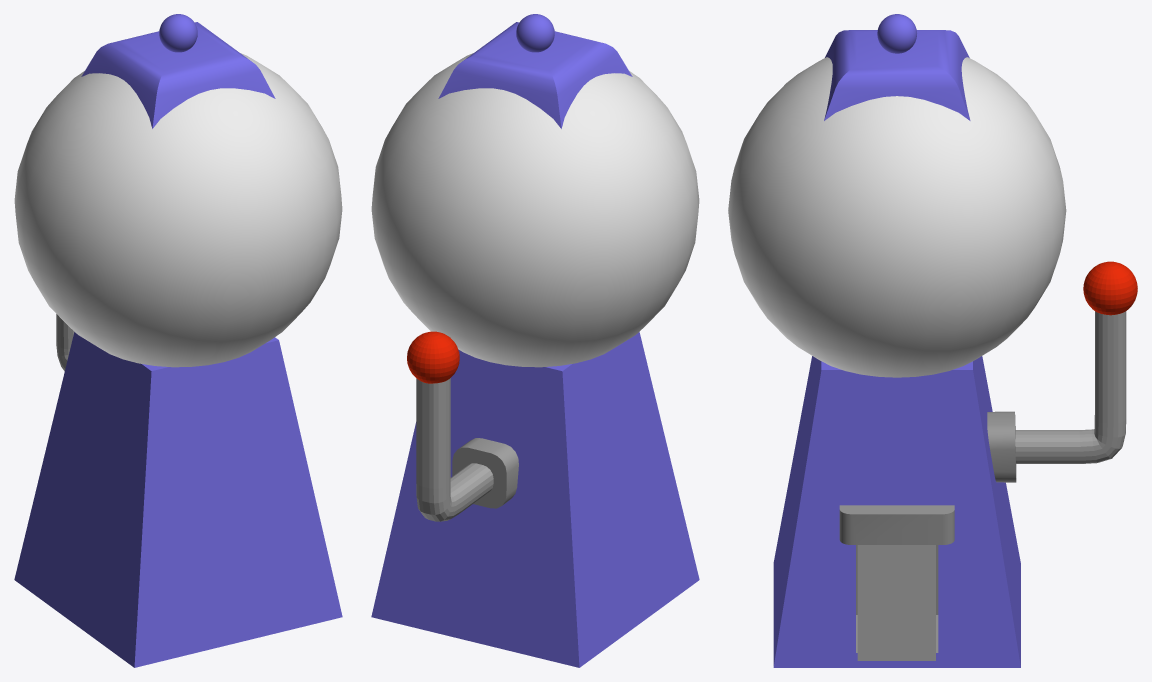
File: maquina gacha.fbx
3 renders of one model, left to right at view 1: azimuth 30°, elevation 25°; view 2: azimuth 150°, elevation 25°; view 3: azimuth 270°, elevation 25°, orthographic. The views are drawn at different scales.
Visible parts, largest first — view 1: Cube.002, Cube.003; view 2: Cube.002, Cube.003; view 3: Cube.002, Cube.003, Cube.001.
Boxes of the visible parts, bbox=[...] form: Cube.002: bbox=[14, 14, 342, 667]; Cube.003: bbox=[56, 314, 74, 371]; Cube.002: bbox=[371, 14, 699, 667]; Cube.003: bbox=[407, 331, 493, 521]; Cube.002: bbox=[728, 14, 1066, 667]; Cube.003: bbox=[1015, 261, 1137, 463]; Cube.001: bbox=[857, 545, 935, 660].
Bounding box in the file's own units: 398 × 780 × 483.
